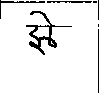e_matra: (31, 11, 58, 25)
